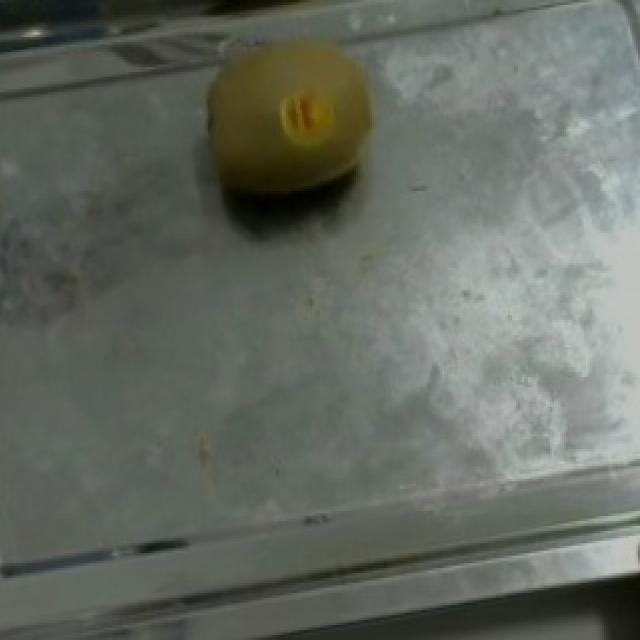Fruit: (174, 3, 404, 243)
